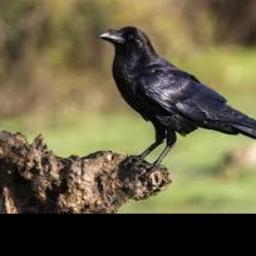Crow: (97, 25, 256, 177)
